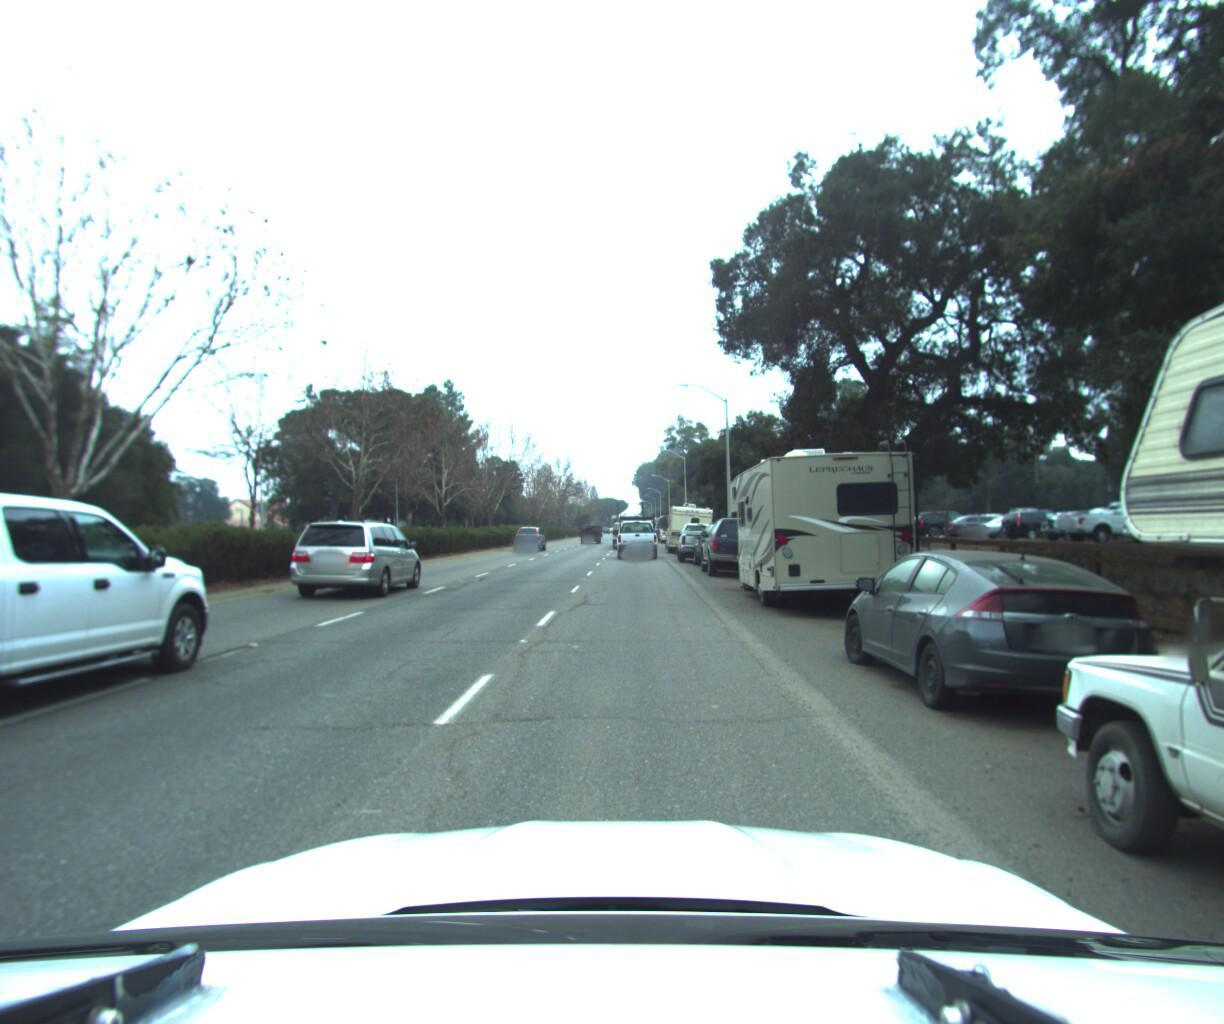car: (819, 532, 1191, 733), (280, 513, 429, 598), (699, 509, 774, 575), (687, 515, 751, 565), (614, 508, 662, 554), (675, 515, 724, 559), (511, 525, 547, 551), (579, 519, 605, 540)
other_vehicle: (722, 431, 931, 614), (662, 495, 716, 550), (655, 511, 682, 537)
truck: (618, 496, 650, 540)
